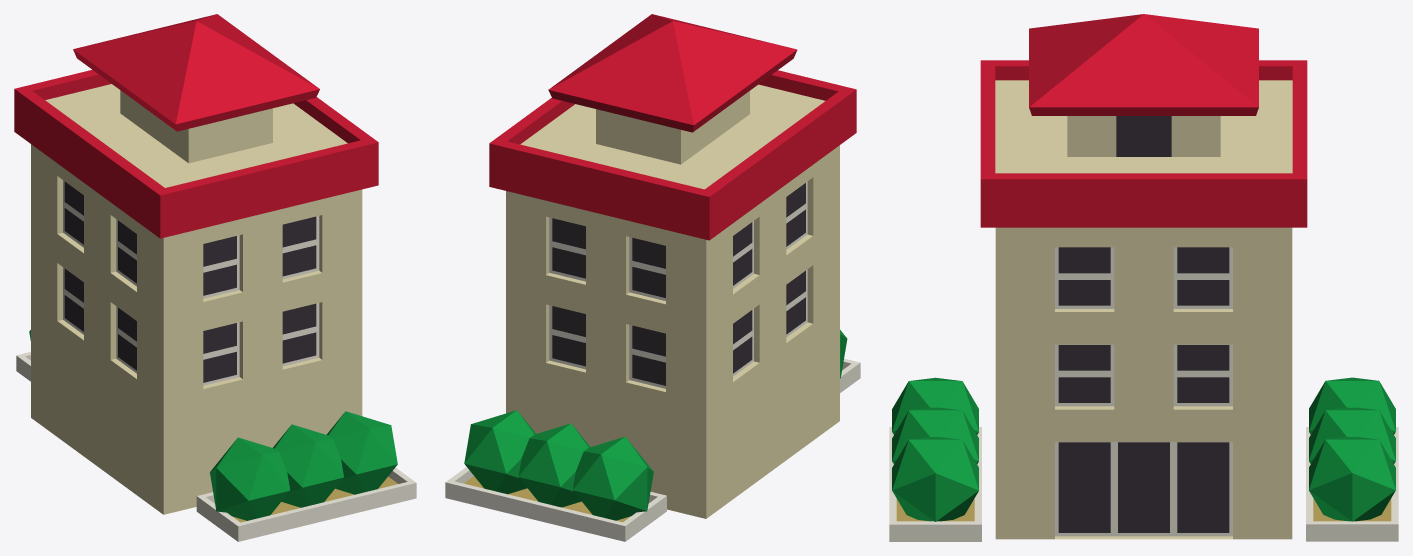
The model's file is 建筑物1.fbx.
The picture shows the model from 3 angles, left to right: view 1: azimuth 30°, elevation 25°; view 2: azimuth 150°, elevation 25°; view 3: azimuth 270°, elevation 25°; orthographic projection. The views are drawn at different scales.
Visible parts, largest first — view 1: 左花2_1; view 2: 左花2_1; view 3: 左花2_1.
Boxes of the visible parts, box(x1,y1,x2,y2) form: 左花2_1: box(14, 14, 416, 541); 左花2_1: box(445, 14, 860, 541); 左花2_1: box(889, 14, 1398, 541).
Bounding box in the file's own units: 781 × 1422 × 1394.
